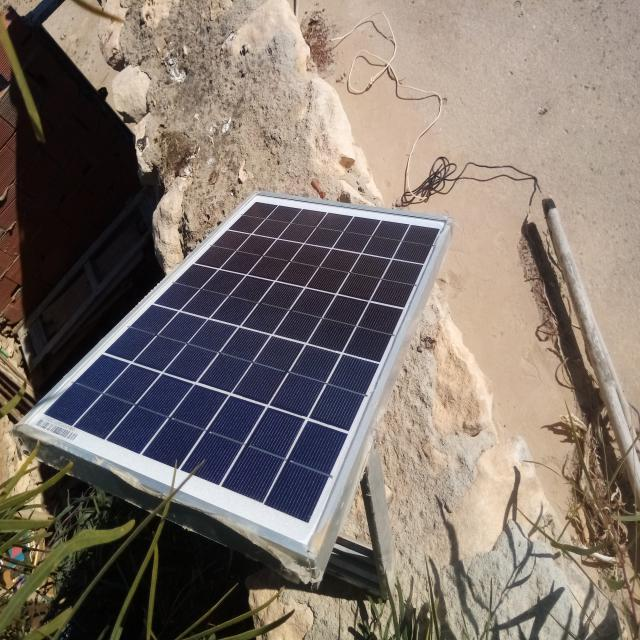no faulty: (17, 195, 449, 558)
